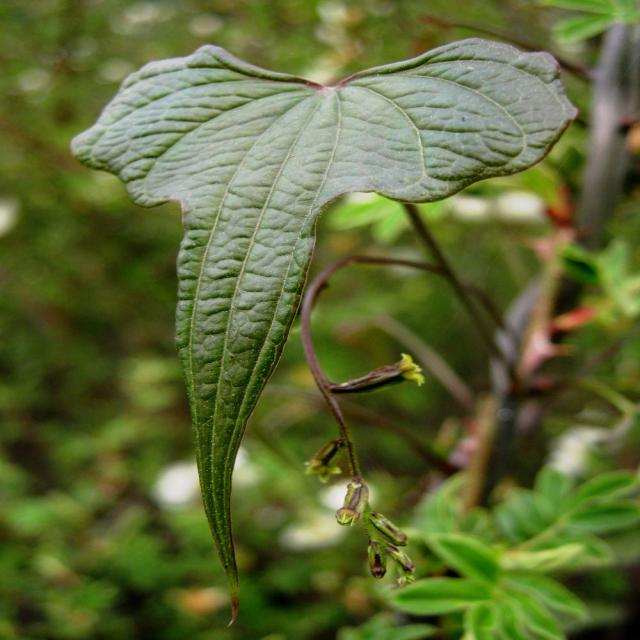Yam: (83, 35, 541, 490)
